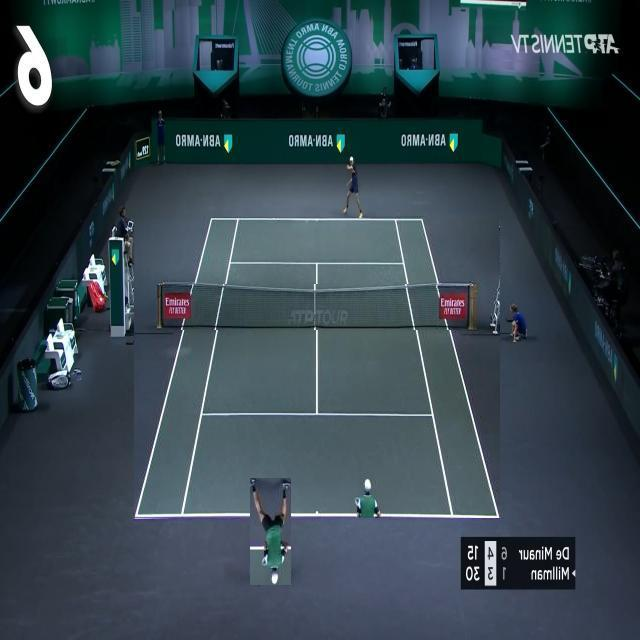court: (134, 218, 500, 518)
net: (157, 284, 475, 330)
player: (250, 478, 291, 585)
